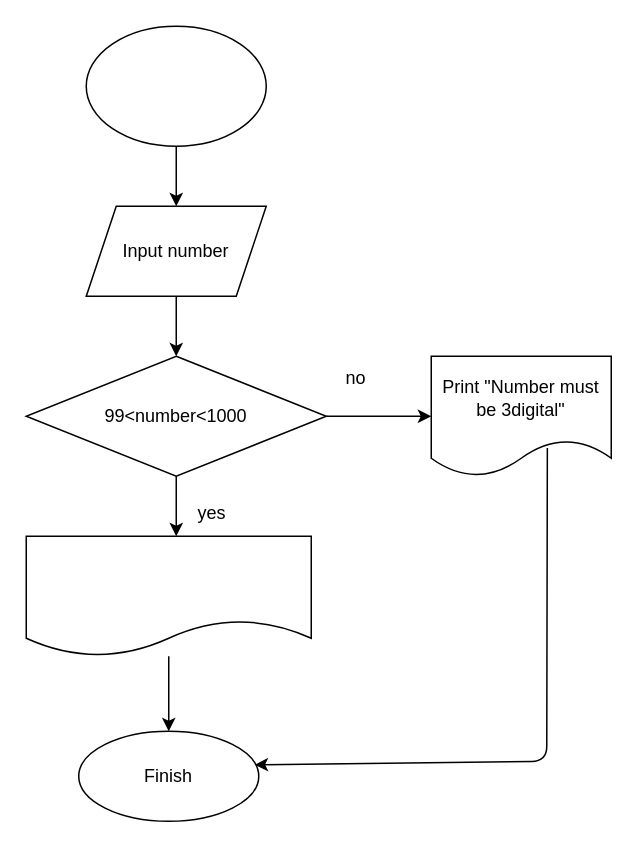
This 638x848 diagram has some shape labels left out. Here are the shapes that lost their labels. From the top down, the centre of each, then its label:
At point 175,85: "Start".
At point 168,595: "print ( number div 10) mod 10".
